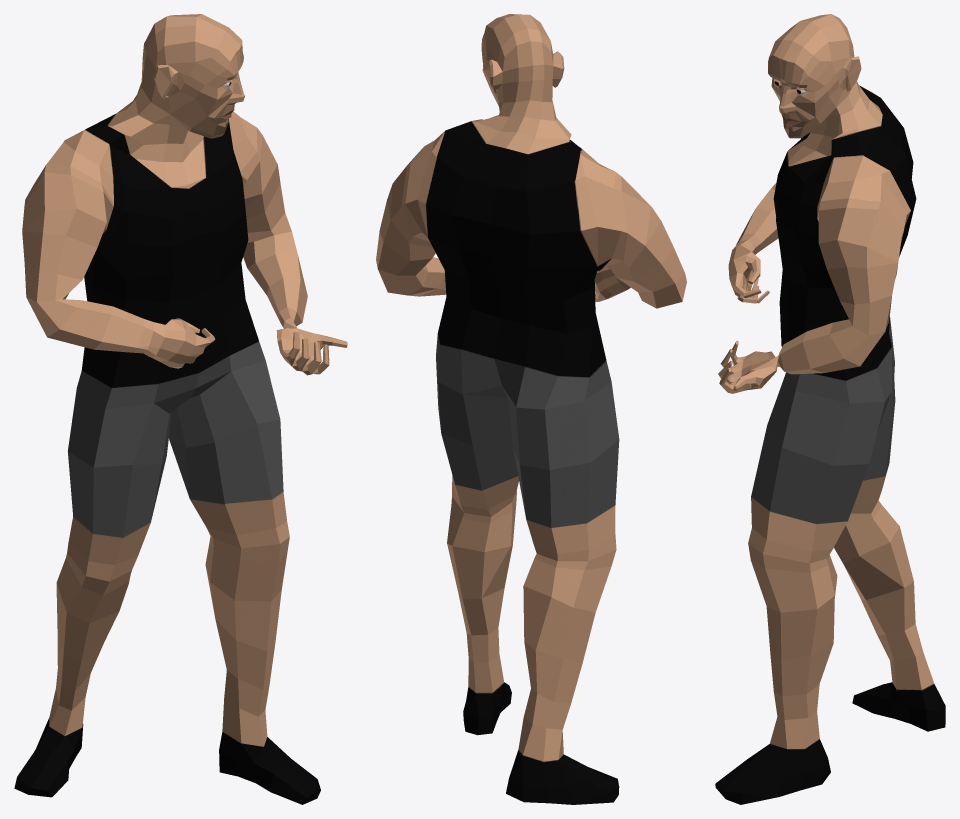
File: PlayerIdle(156).obj
3 views of the same model, side by side, from view 1: azimuth 30°, elevation 25°; view 2: azimuth 150°, elevation 25°; view 3: azimuth 270°, elevation 25° (orthographic). The views are drawn at different scales.
Parts seen in each view (by area): view 1: Plane002; view 2: Plane002; view 3: Plane002.
Part boxes in pixels (left/top/right/bottom): Plane002: left=14, top=14, right=347, bottom=804; Plane002: left=376, top=14, right=686, bottom=804; Plane002: left=715, top=14, right=945, bottom=804.
Size of the model in its own units: 705 by 1791 by 504.
